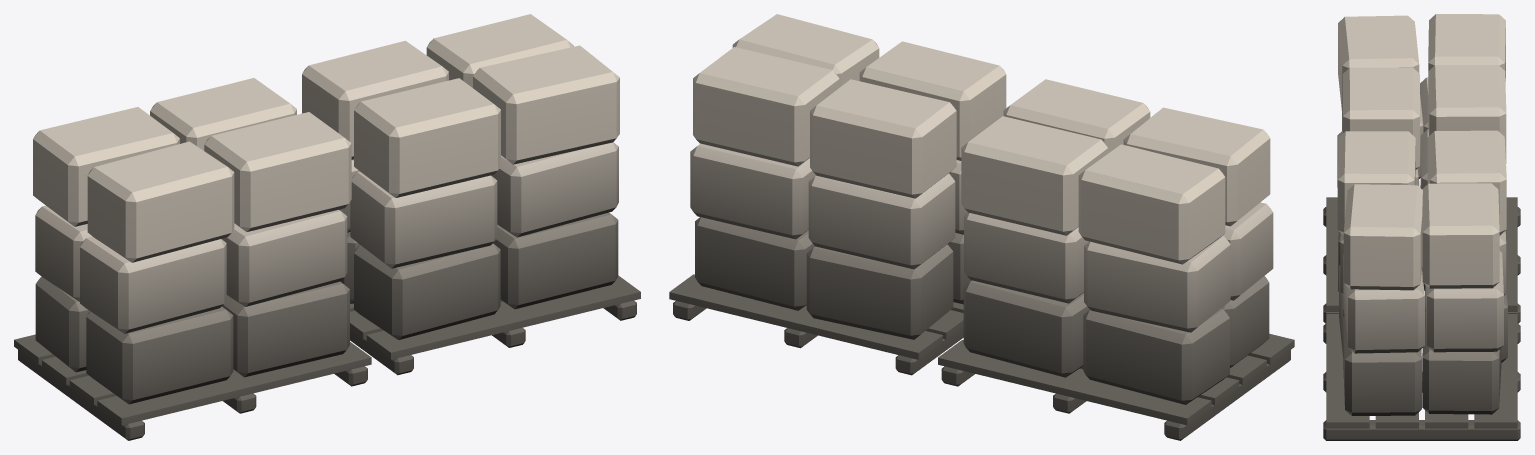
Rendered from SM_VK_Pile_Stone_3.fbx.
The picture shows the model from 3 angles, left to right: view 1: azimuth 30°, elevation 25°; view 2: azimuth 150°, elevation 25°; view 3: azimuth 270°, elevation 25°; orthographic projection. The views are drawn at different scales.
Parts seen in each view (by area): view 1: SM_VK_Pile_Stone_3.001; view 2: SM_VK_Pile_Stone_3.001; view 3: SM_VK_Pile_Stone_3.001.
Boxes of the visible parts, <box> form: SM_VK_Pile_Stone_3.001: <box>14,14,640,440</box>; SM_VK_Pile_Stone_3.001: <box>669,14,1294,440</box>; SM_VK_Pile_Stone_3.001: <box>1323,14,1520,440</box>.
Size of the model in its own units: 2.7 by 1.18 by 1.
